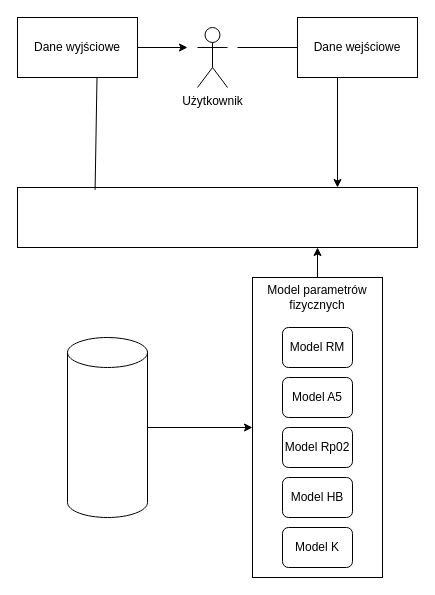
This 435x595 diagram has some shape labels left out. Here are the shapes that lost their labels. From the top down, the box of each, then its label:
(16, 186, 418, 248): Interfejs graficzny
(66, 336, 148, 518): Zbiór danych
